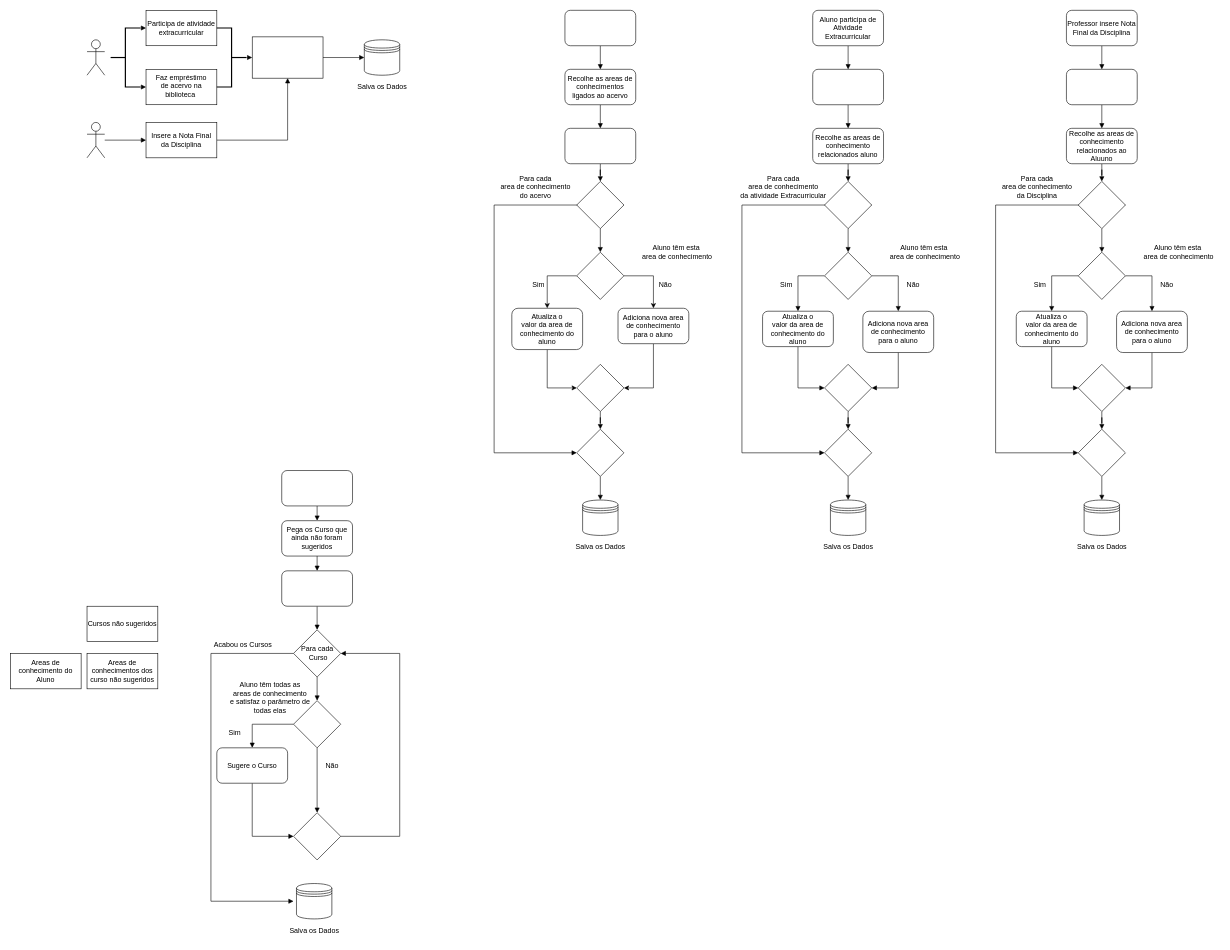
Image size: 1230x950. Some labels were removed from this diagram. The shapes that lost their labels are listed below. From the top down, each one's box as (x1, y1, x2, y2) in pixels, then its label:
(564, 10, 636, 46): Aluno faz Empréstimo de acervo na biblioteca
(86, 39, 105, 75): Aluno
(252, 36, 323, 78): Insere ou atualiza a area de conhecimento do aluno
(812, 69, 884, 105): Recolhe as areas de conhecimentos ligados à atividade Extracurricular
(1066, 69, 1137, 105): Recolhe as areas de conhecimentos ligados à Disciplina
(86, 122, 105, 158): Professor
(564, 128, 636, 164): Recolhe as areas de conhecimento relacionados á pessoa
(281, 470, 353, 506): Pega as areas de conhecimento do Aluno
(281, 570, 353, 606): Pega as areas de conhecimento de cada curso
